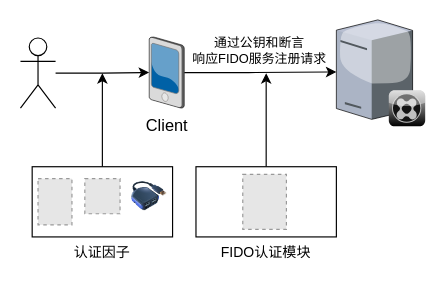
Image size: 448x282. Some labels were removed from this diagram. Grey dashed boxes stand in for pictures. The centre of each missing label's shape, as x and y in pixels:
"Actor" belongs at point (37, 72).
"FIDO服务" belongs at point (380, 72).
